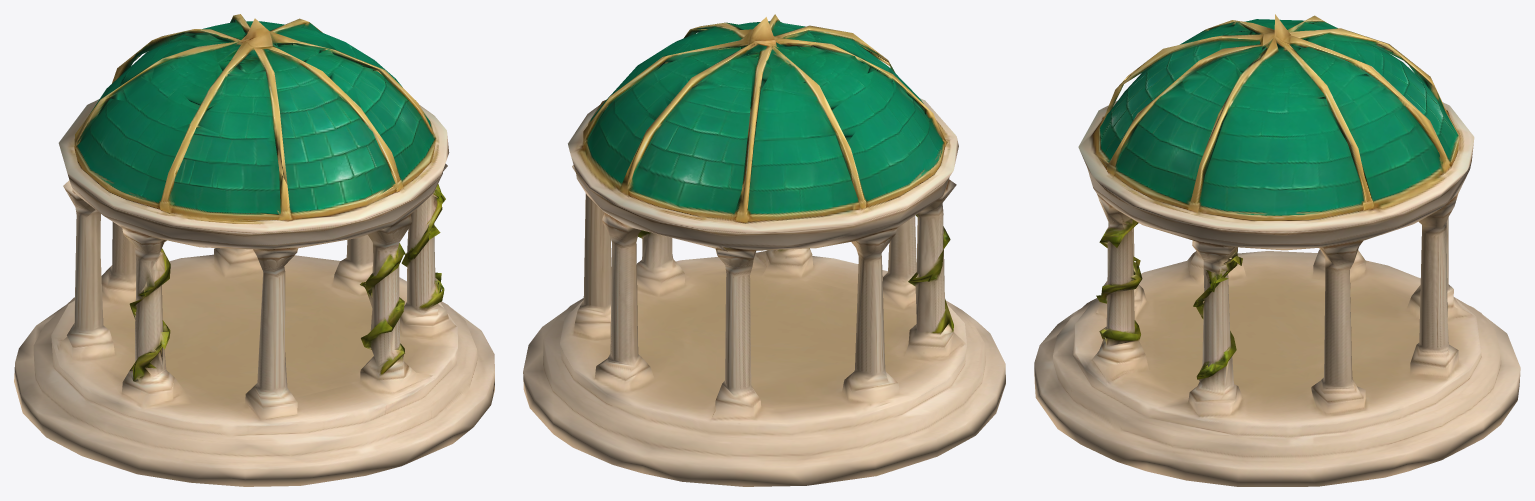
Rendered from gazebo.glb.
3 views of the same model, side by side, from view 1: azimuth 30°, elevation 25°; view 2: azimuth 150°, elevation 25°; view 3: azimuth 270°, elevation 25° (orthographic).
Parts seen in each view (by area): view 1: gazebo; view 2: gazebo; view 3: gazebo.
Part boxes in pixels (left/top/right/bottom): gazebo: left=14, top=14, right=494, bottom=486; gazebo: left=523, top=14, right=1005, bottom=486; gazebo: left=1034, top=14, right=1520, bottom=486.
Size of the model in its own units: 5.5 by 4.65 by 5.5.
Materials: 1 (1 with a texture image).
